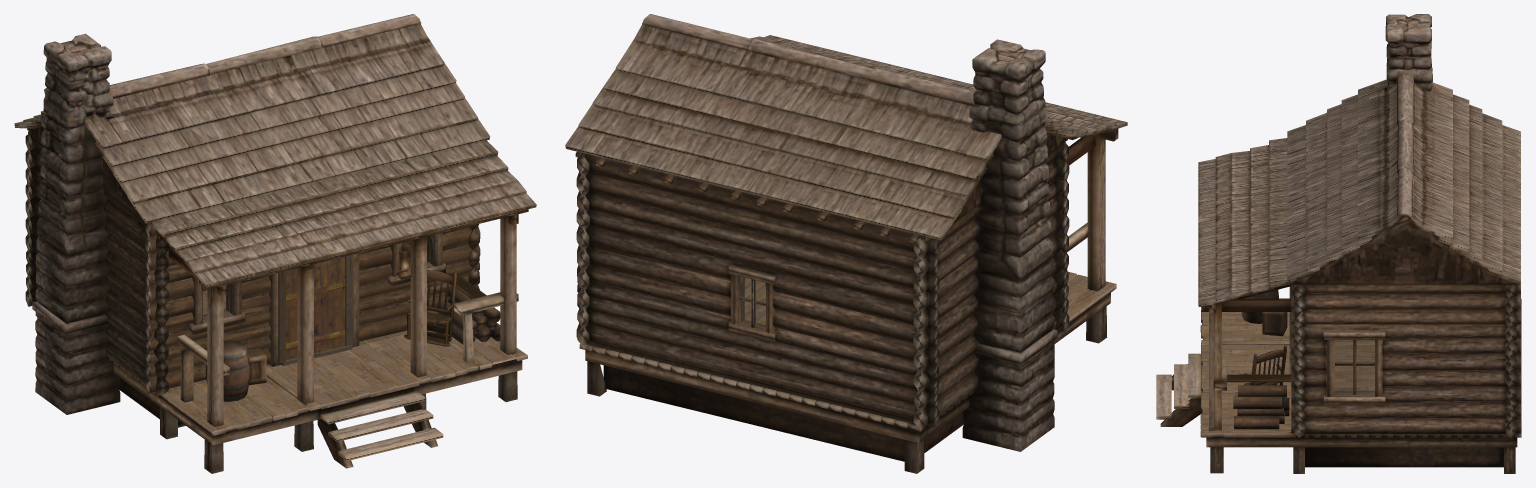
Rendered from cabin_inside_2048.glb.
The picture shows the model from 3 angles, left to right: view 1: azimuth 30°, elevation 25°; view 2: azimuth 150°, elevation 25°; view 3: azimuth 270°, elevation 25°; orthographic projection. The views are drawn at different scales.
Parts seen in each view (by area): view 1: Cabin, Door; view 2: Cabin; view 3: Cabin.
Boxes of the visible parts, x1=… form: Cabin: x1=14, y1=14, x2=536, y2=473; Door: x1=286, y1=256, x2=345, y2=360; Cabin: x1=565, y1=14, x2=1127, y2=473; Cabin: x1=1156, y1=14, x2=1521, y2=473.
Size of the model in its own units: 6.6 by 5.88 by 6.29.
12 materials, 12 textured.
